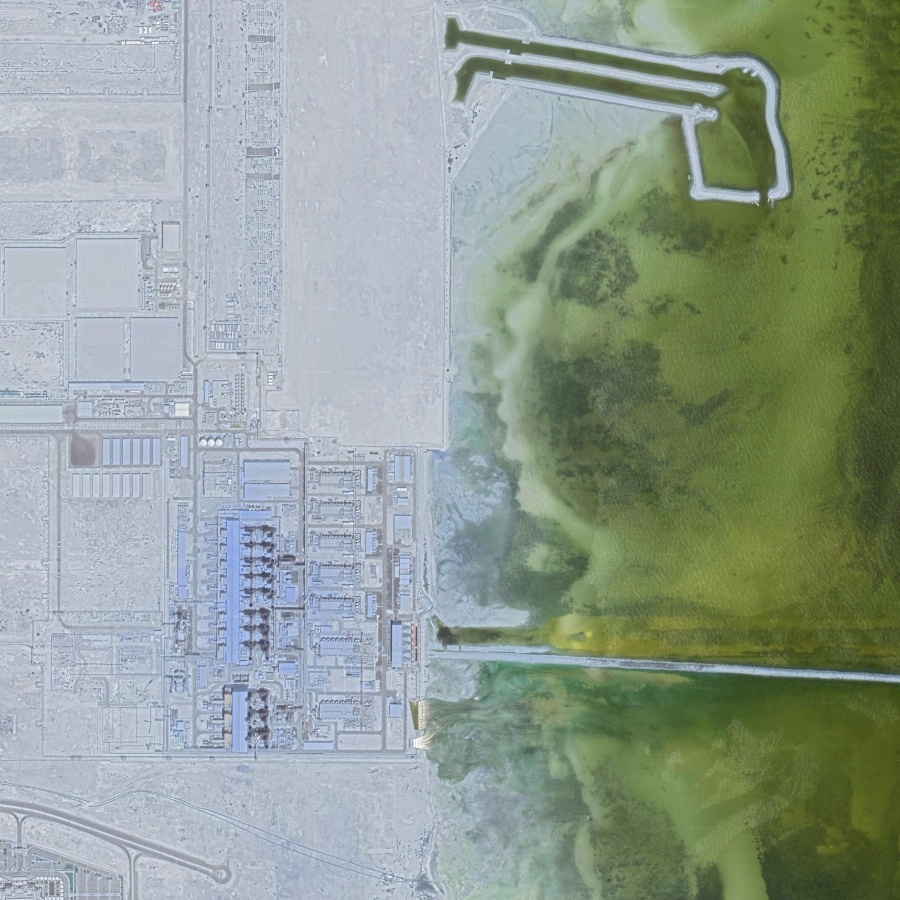PowerPlant: (188, 427, 448, 753)
